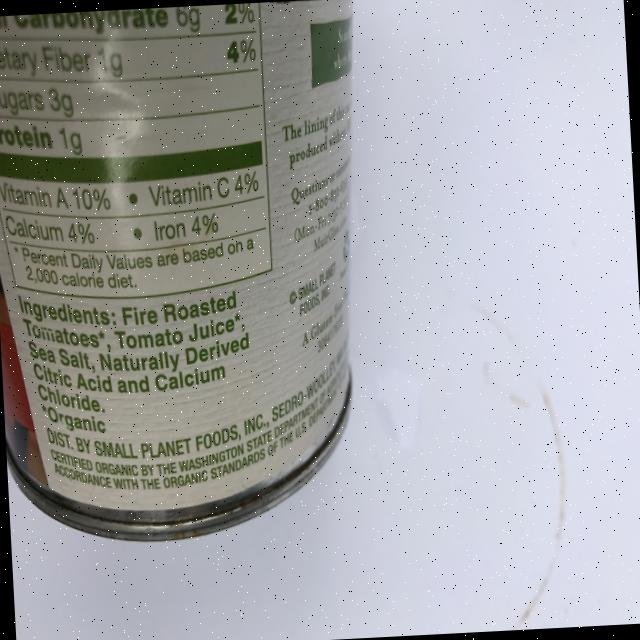metal: (0, 0, 380, 548)
